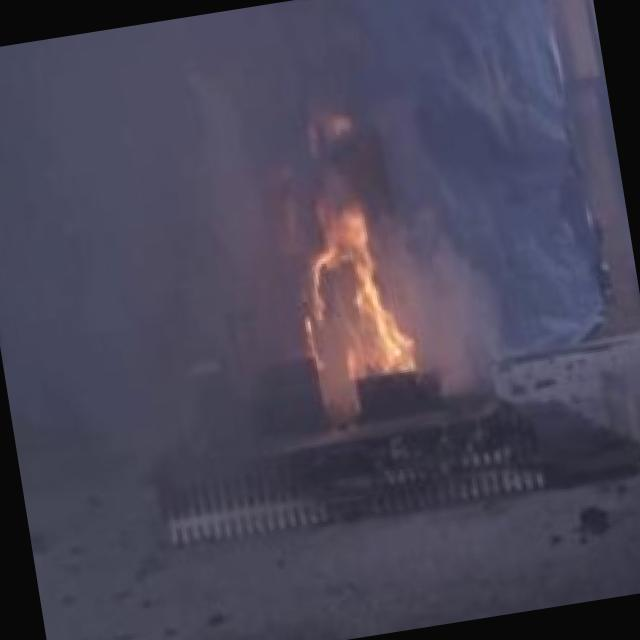fire: (280, 167, 427, 414)
